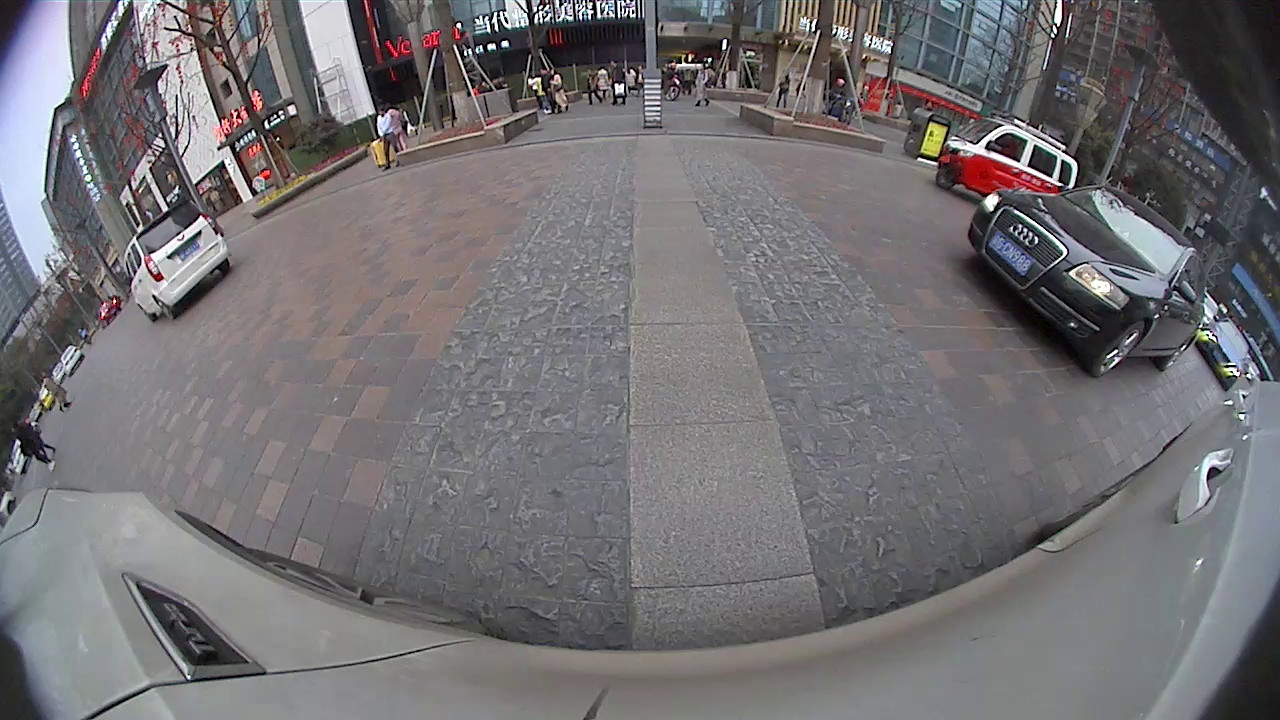car: (965, 183, 1208, 379), (122, 197, 232, 325), (1193, 316, 1253, 393), (59, 342, 87, 378)
front: (1084, 314, 1149, 382)
person: (12, 419, 34, 474), (378, 108, 393, 169)
rider: (934, 114, 1080, 202)
